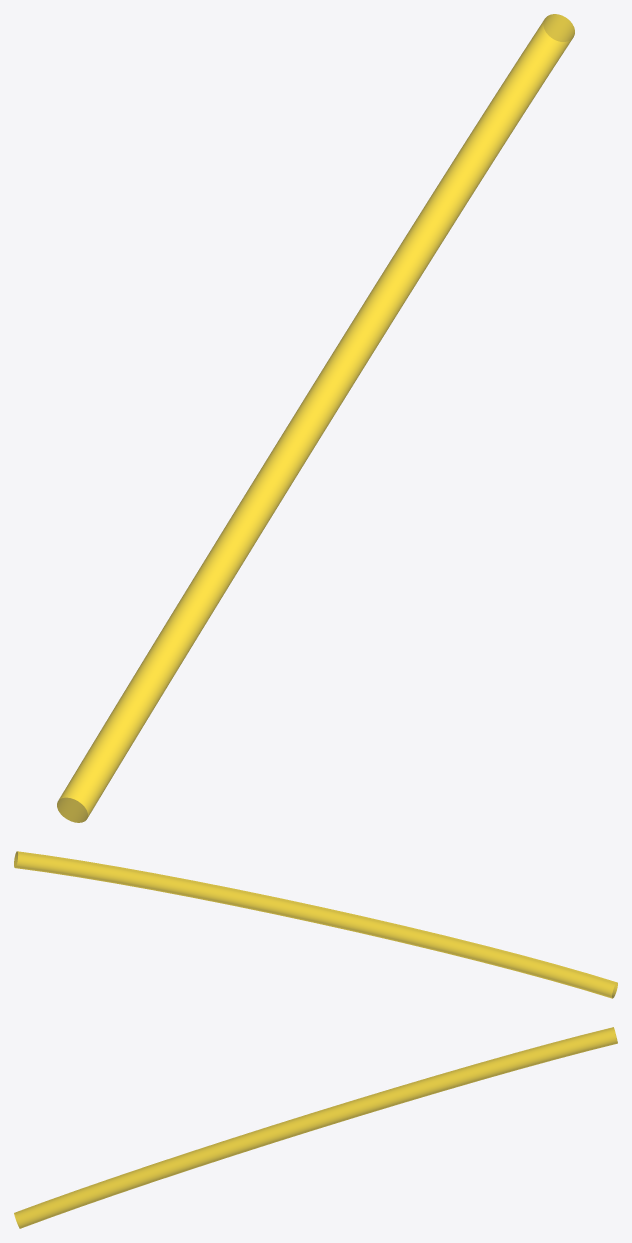
File: Event_17758602_track_144.fbx
The picture shows the model from 3 angles, top to bottom: view 1: azimuth 30°, elevation 25°; view 2: azimuth 150°, elevation 25°; view 3: azimuth 330°, elevation 25°; orthographic projection. The views are drawn at different scales.
Parts seen in each view (by area): view 1: Model; view 2: Model; view 3: Model.
Boxes of the visible parts, x1,y1,x2,y2 form: Model: (57, 14, 574, 822); Model: (14, 851, 617, 998); Model: (14, 1027, 617, 1228).
Size of the model in its own units: 1.16 by 0.446 by 0.8629.
